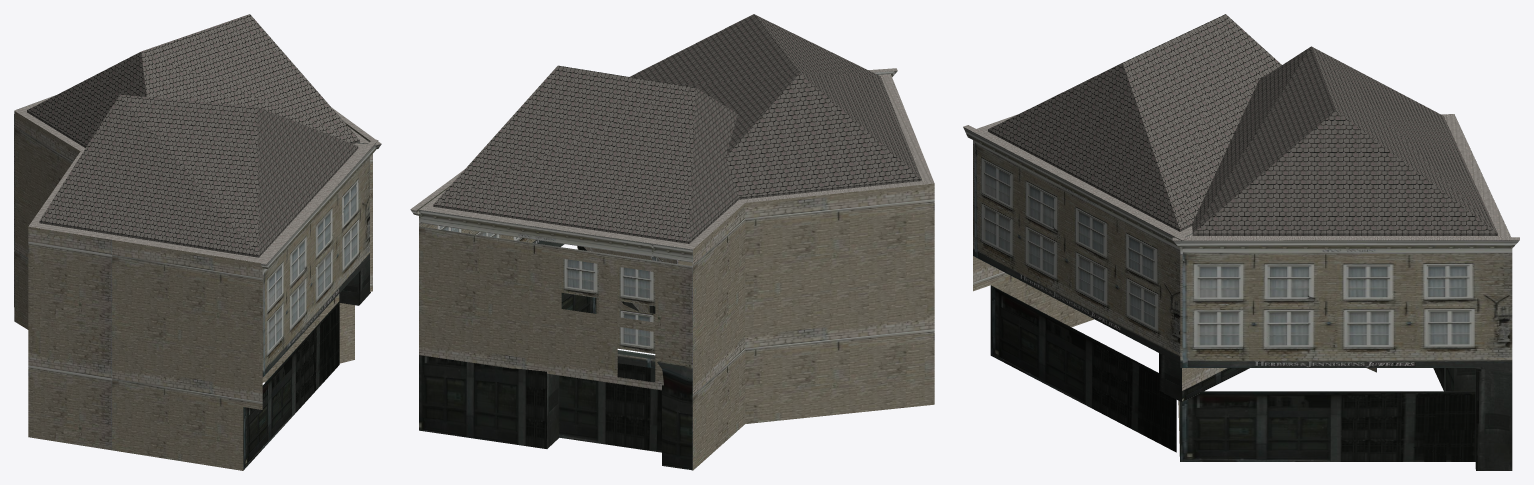
File: BatIrish.fbx
3 views of the same model, side by side, from view 1: azimuth 30°, elevation 25°; view 2: azimuth 150°, elevation 25°; view 3: azimuth 270°, elevation 25° (orthographic). The views are drawn at different scales.
Visible parts, largest first — view 1: group_3.008, group_3.007, group_3.002, group_3.005, group_3.003, group_3.009, group_3.006, instance_79.013, instance_79.010, group_3.001; view 2: group_3.008, group_3.003, group_3.002, group_3.007, group_3, group_3.001, group_3.006, instance_77, instance_78, instance_76, group_3.004; view 3: group_3, group_3.002, group_3.007, group_3.005, group_3.004, group_3.009, instance_79.001, group_3.008, group_3.001, instance_79.010, instance_79.004, instance_79.013 (+1 smaller).
Part boxes in pixels (x1=…): group_3.008: x1=28, y1=226, x2=262, y2=470; group_3.007: x1=39, y1=94, x2=358, y2=257; group_3.002: x1=27, y1=14, x2=359, y2=147; group_3.005: x1=262, y1=142, x2=370, y2=377; group_3.003: x1=14, y1=111, x2=372, y2=382; group_3.009: x1=243, y1=301, x2=339, y2=470; group_3.006: x1=28, y1=143, x2=367, y2=262; instance_79.013: x1=261, y1=139, x2=377, y2=264; instance_79.010: x1=266, y1=140, x2=378, y2=268; group_3.001: x1=14, y1=96, x2=369, y2=152; group_3.008: x1=584, y1=183, x2=934, y2=423; group_3.003: x1=419, y1=203, x2=745, y2=470; group_3.002: x1=433, y1=65, x2=738, y2=243; group_3.007: x1=630, y1=14, x2=921, y2=199; group_3: x1=419, y1=189, x2=692, y2=470; group_3.001: x1=419, y1=190, x2=749, y2=249; group_3.006: x1=745, y1=74, x2=934, y2=202; instance_77: x1=617, y1=266, x2=655, y2=306; instance_78: x1=561, y1=258, x2=598, y2=297; instance_76: x1=617, y1=308, x2=655, y2=353; group_3.004: x1=561, y1=293, x2=596, y2=313; group_3: x1=1180, y1=114, x2=1512, y2=470; group_3.002: x1=1192, y1=46, x2=1497, y2=235; group_3.007: x1=988, y1=14, x2=1281, y2=231; group_3.005: x1=973, y1=140, x2=1249, y2=402; group_3.004: x1=1180, y1=391, x2=1475, y2=461; group_3.009: x1=990, y1=285, x2=1176, y2=452; instance_79.001: x1=1173, y1=240, x2=1519, y2=248; group_3.008: x1=973, y1=256, x2=1376, y2=390; group_3.001: x1=1181, y1=114, x2=1510, y2=237; instance_79.010: x1=963, y1=127, x2=1181, y2=245; instance_79.004: x1=1172, y1=237, x2=1519, y2=240; instance_79.013: x1=963, y1=125, x2=1186, y2=240.
Bounding box in the file's own units: 2068 × 1712 × 2597.
